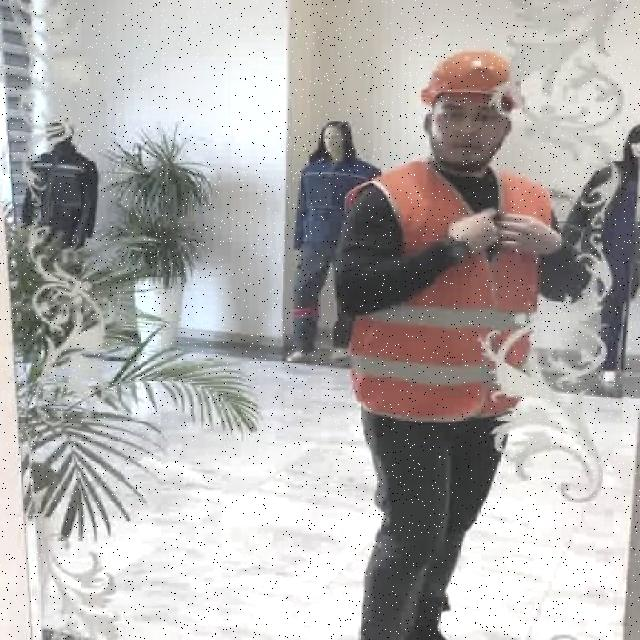Helmet: (419, 48, 524, 106)
Mask: (342, 154, 556, 426), (285, 158, 387, 354), (566, 162, 639, 376), (10, 142, 112, 256)
